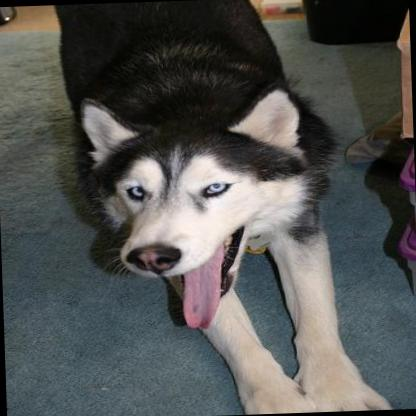Eskimo_dog: (49, 0, 387, 416)
